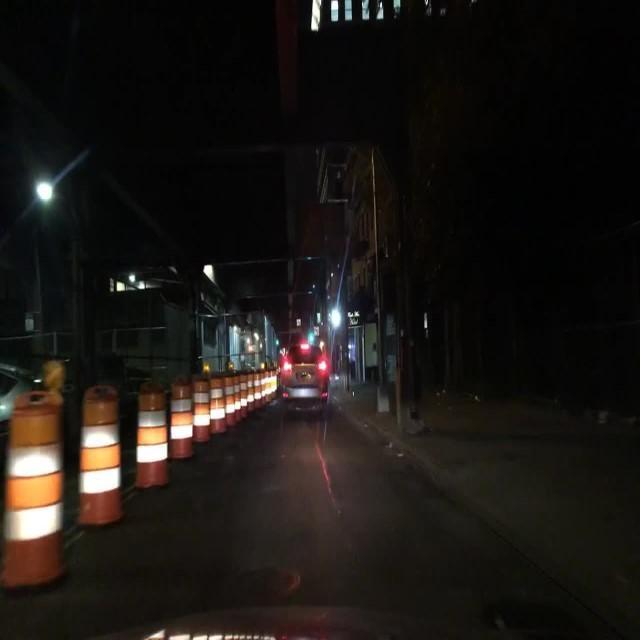normal: (269, 332, 346, 437)
